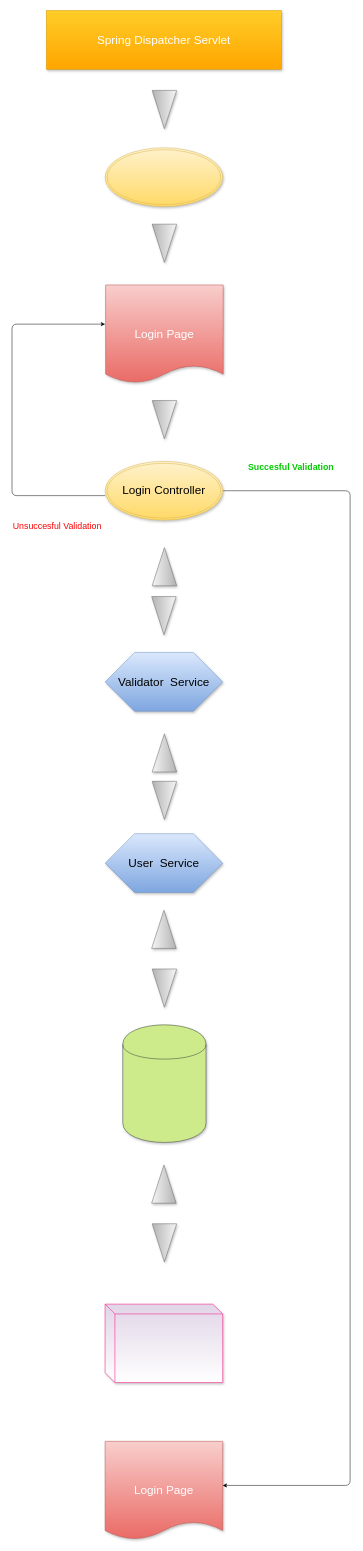
Some shapes in this 363 by 1551 pixel diagram are drawn without their labels. Here are the shapes that lost their labels. From the top down, the centre of each, then its label:
At pixel 164 177: "Home Controller".
At pixel 164 1084: "User Repository".
At pixel 164 1344: "File System".
